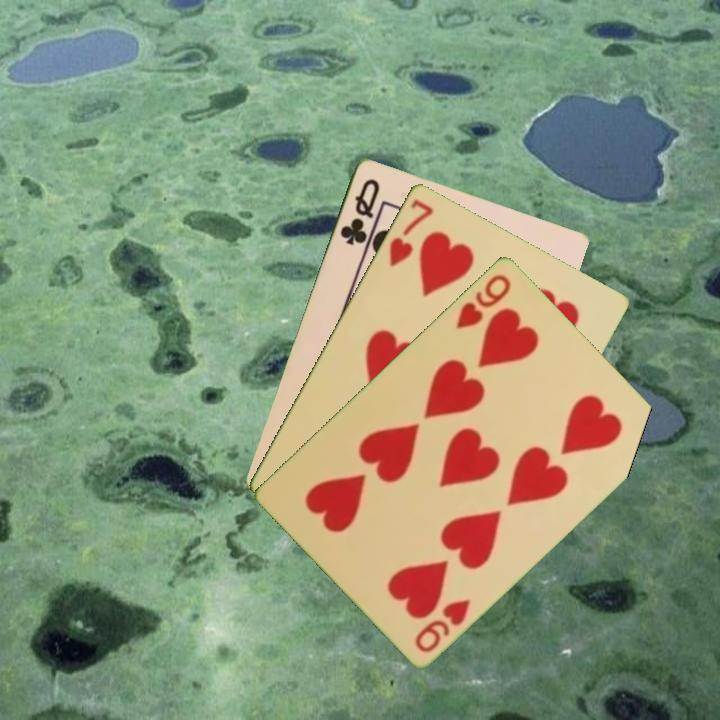7h: (385, 195, 436, 270)
9h: (451, 270, 514, 332), (411, 595, 474, 655)
Qc: (336, 174, 383, 248)
